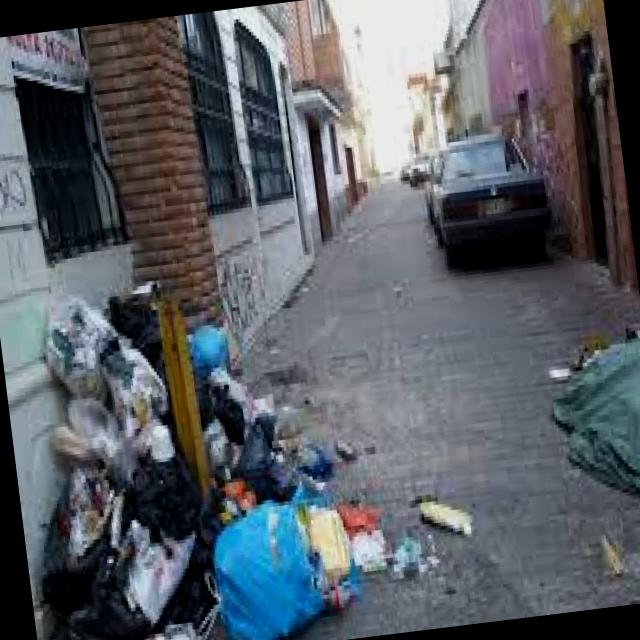garbage: (0, 245, 395, 640), (532, 304, 640, 529)
